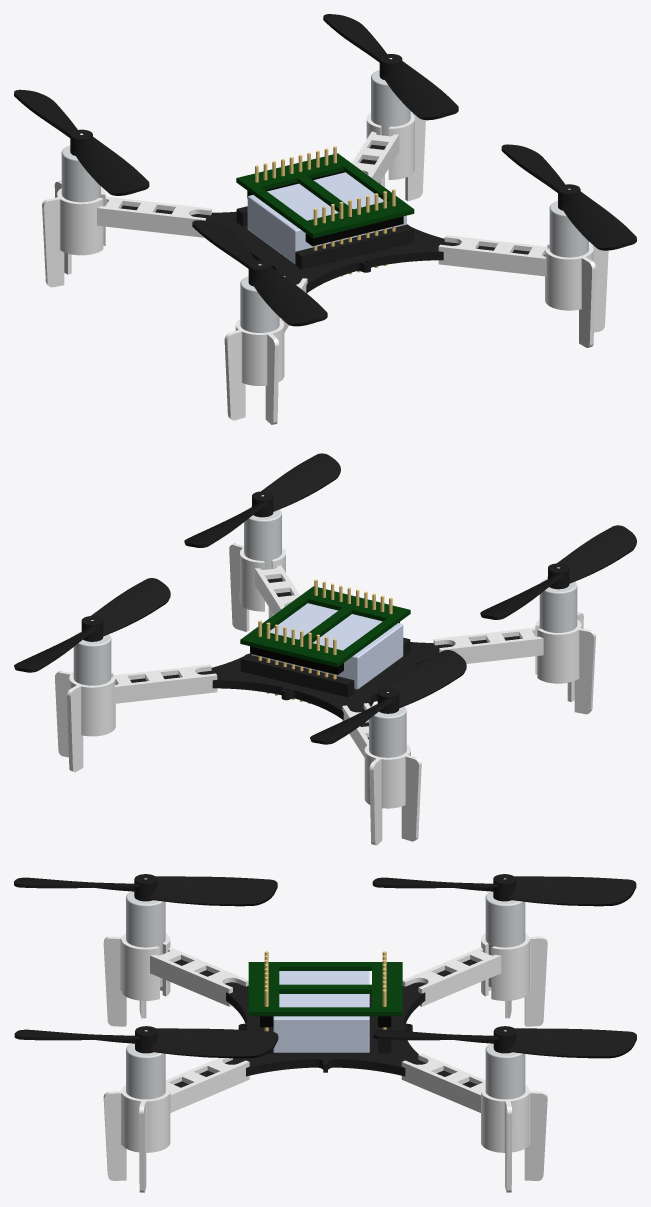
Rendered from drone6.glb.
The picture shows the model from 3 angles, top to bottom: view 1: azimuth 30°, elevation 25°; view 2: azimuth 150°, elevation 25°; view 3: azimuth 270°, elevation 25°; orthographic projection. The views are drawn at different scales.
Visible parts, largest first — view 1: Mesh_0, Mesh_7, Mesh_1, Mesh_6, Mesh_5, e2, e4, e3, e1, Mesh_3, Mesh_4; view 2: Mesh_0, Mesh_7, Mesh_1, Mesh_6, Mesh_5, e1, e4, e2, e3, Mesh_3, Mesh_4; view 3: Mesh_0, Mesh_1, Mesh_7, Mesh_5, Mesh_6, e4, e3, e2, e1, Mesh_3.
Boxes of the visible parts, <box> form: Mesh_0: <box>42,111,608,424</box>; Mesh_7: <box>121,144,544,293</box>; Mesh_1: <box>61,58,588,332</box>; Mesh_6: <box>236,153,414,238</box>; Mesh_5: <box>247,169,406,263</box>; e2: <box>192,220,327,326</box>; e4: <box>323,14,458,120</box>; e3: <box>501,144,636,250</box>; e1: <box>14,89,149,195</box>; Mesh_3: <box>255,146,395,276</box>; Mesh_4: <box>247,171,403,246</box>; Mesh_0: <box>55,543,595,845</box>; Mesh_7: <box>115,578,520,739</box>; Mesh_1: <box>73,495,577,757</box>; Mesh_6: <box>240,586,410,667</box>; Mesh_5: <box>251,598,403,689</box>; e1: <box>310,650,466,744</box>; e4: <box>14,578,170,672</box>; e2: <box>480,525,636,619</box>; e3: <box>184,453,340,547</box>; Mesh_3: <box>258,579,392,703</box>; Mesh_4: <box>250,622,399,674</box>; Mesh_0: <box>103,933,547,1192</box>; Mesh_1: <box>126,878,525,1099</box>; Mesh_7: <box>174,959,477,1087</box>; Mesh_5: <box>273,971,369,1052</box>; Mesh_6: <box>248,962,402,1016</box>; e4: <box>373,1026,636,1058</box>; e3: <box>14,1026,278,1058</box>; e2: <box>14,874,277,906</box>; e1: <box>372,874,636,906</box>; Mesh_3: <box>264,951,386,1031</box>.
Size of the model in its own units: 0.0782 by 0.0288 by 0.1097.
